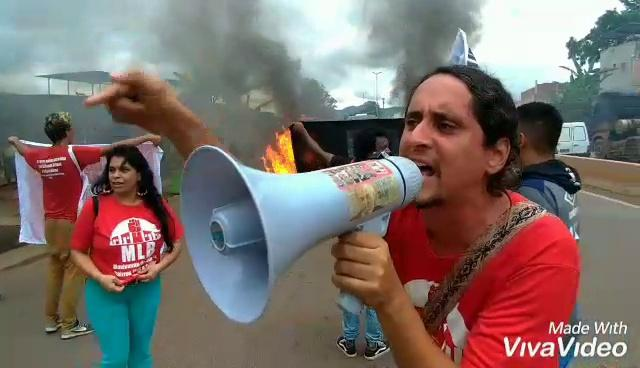fire: (262, 132, 295, 169)
smoke: (172, 5, 270, 90), (384, 0, 444, 55)
